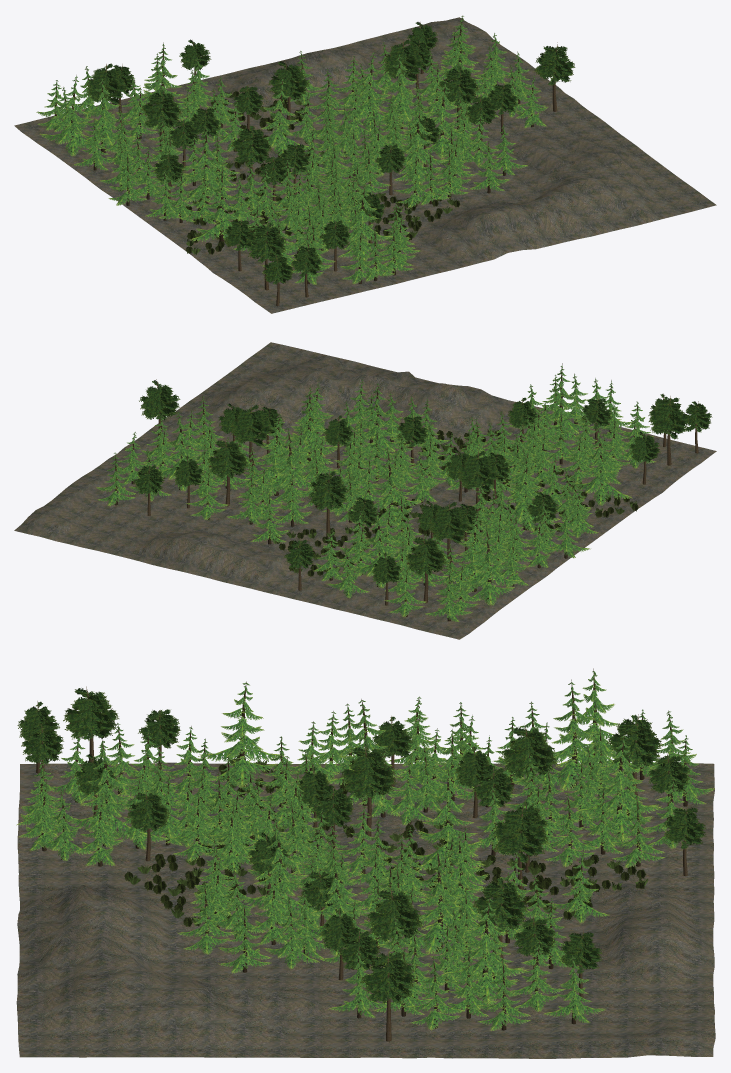
Rendered from forest.glb.
The picture shows the model from 3 angles, top to bottom: view 1: azimuth 30°, elevation 25°; view 2: azimuth 150°, elevation 25°; view 3: azimuth 270°, elevation 25°; orthographic projection. The views are drawn at different scales.
Parts seen in each view (by area): view 1: node_id30, node_id48, node_id39, node_id33, node_id42, node_id45, node_id36, node_id51, node_id63, node_id57, node_id66, node_id60; view 2: node_id30, node_id48, node_id33, node_id39, node_id42, node_id45, node_id36, node_id51, node_id63, node_id57, node_id66, node_id60; view 3: node_id30, node_id48, node_id39, node_id33, node_id42, node_id36, node_id45, node_id51, node_id63, node_id57, node_id66, node_id60.
Part boxes in pixels (x1,y1,x2,y2): node_id30: [14, 17, 716, 313]; node_id48: [86, 39, 575, 284]; node_id39: [108, 16, 548, 253]; node_id33: [36, 44, 421, 284]; node_id42: [46, 51, 527, 199]; node_id45: [116, 42, 526, 205]; node_id36: [39, 76, 368, 241]; node_id51: [230, 22, 517, 185]; node_id63: [54, 15, 534, 284]; node_id57: [182, 91, 460, 254]; node_id66: [104, 22, 557, 306]; node_id60: [186, 91, 456, 254]; node_id30: [14, 342, 716, 639]; node_id48: [139, 380, 712, 583]; node_id33: [313, 366, 656, 621]; node_id39: [96, 387, 622, 562]; node_id42: [226, 379, 519, 616]; node_id45: [144, 383, 448, 595]; node_id36: [330, 411, 632, 605]; node_id51: [133, 403, 510, 527]; node_id63: [114, 363, 638, 621]; node_id57: [272, 430, 638, 577]; node_id66: [147, 379, 698, 605]; node_id60: [273, 429, 637, 573]; node_id30: [16, 762, 715, 1058]; node_id48: [17, 688, 706, 1003]; node_id39: [132, 697, 605, 1030]; node_id33: [16, 682, 696, 867]; node_id42: [177, 709, 714, 973]; node_id36: [159, 671, 625, 892]; node_id45: [190, 751, 658, 1016]; node_id51: [296, 747, 602, 973]; node_id63: [39, 668, 687, 1030]; node_id57: [124, 755, 645, 927]; node_id66: [36, 686, 687, 1041]; node_id60: [127, 758, 647, 926].
Bounding box in the file's own units: 15.86 × 2.61 × 15.38.
Materials: 13 (13 with a texture image).
